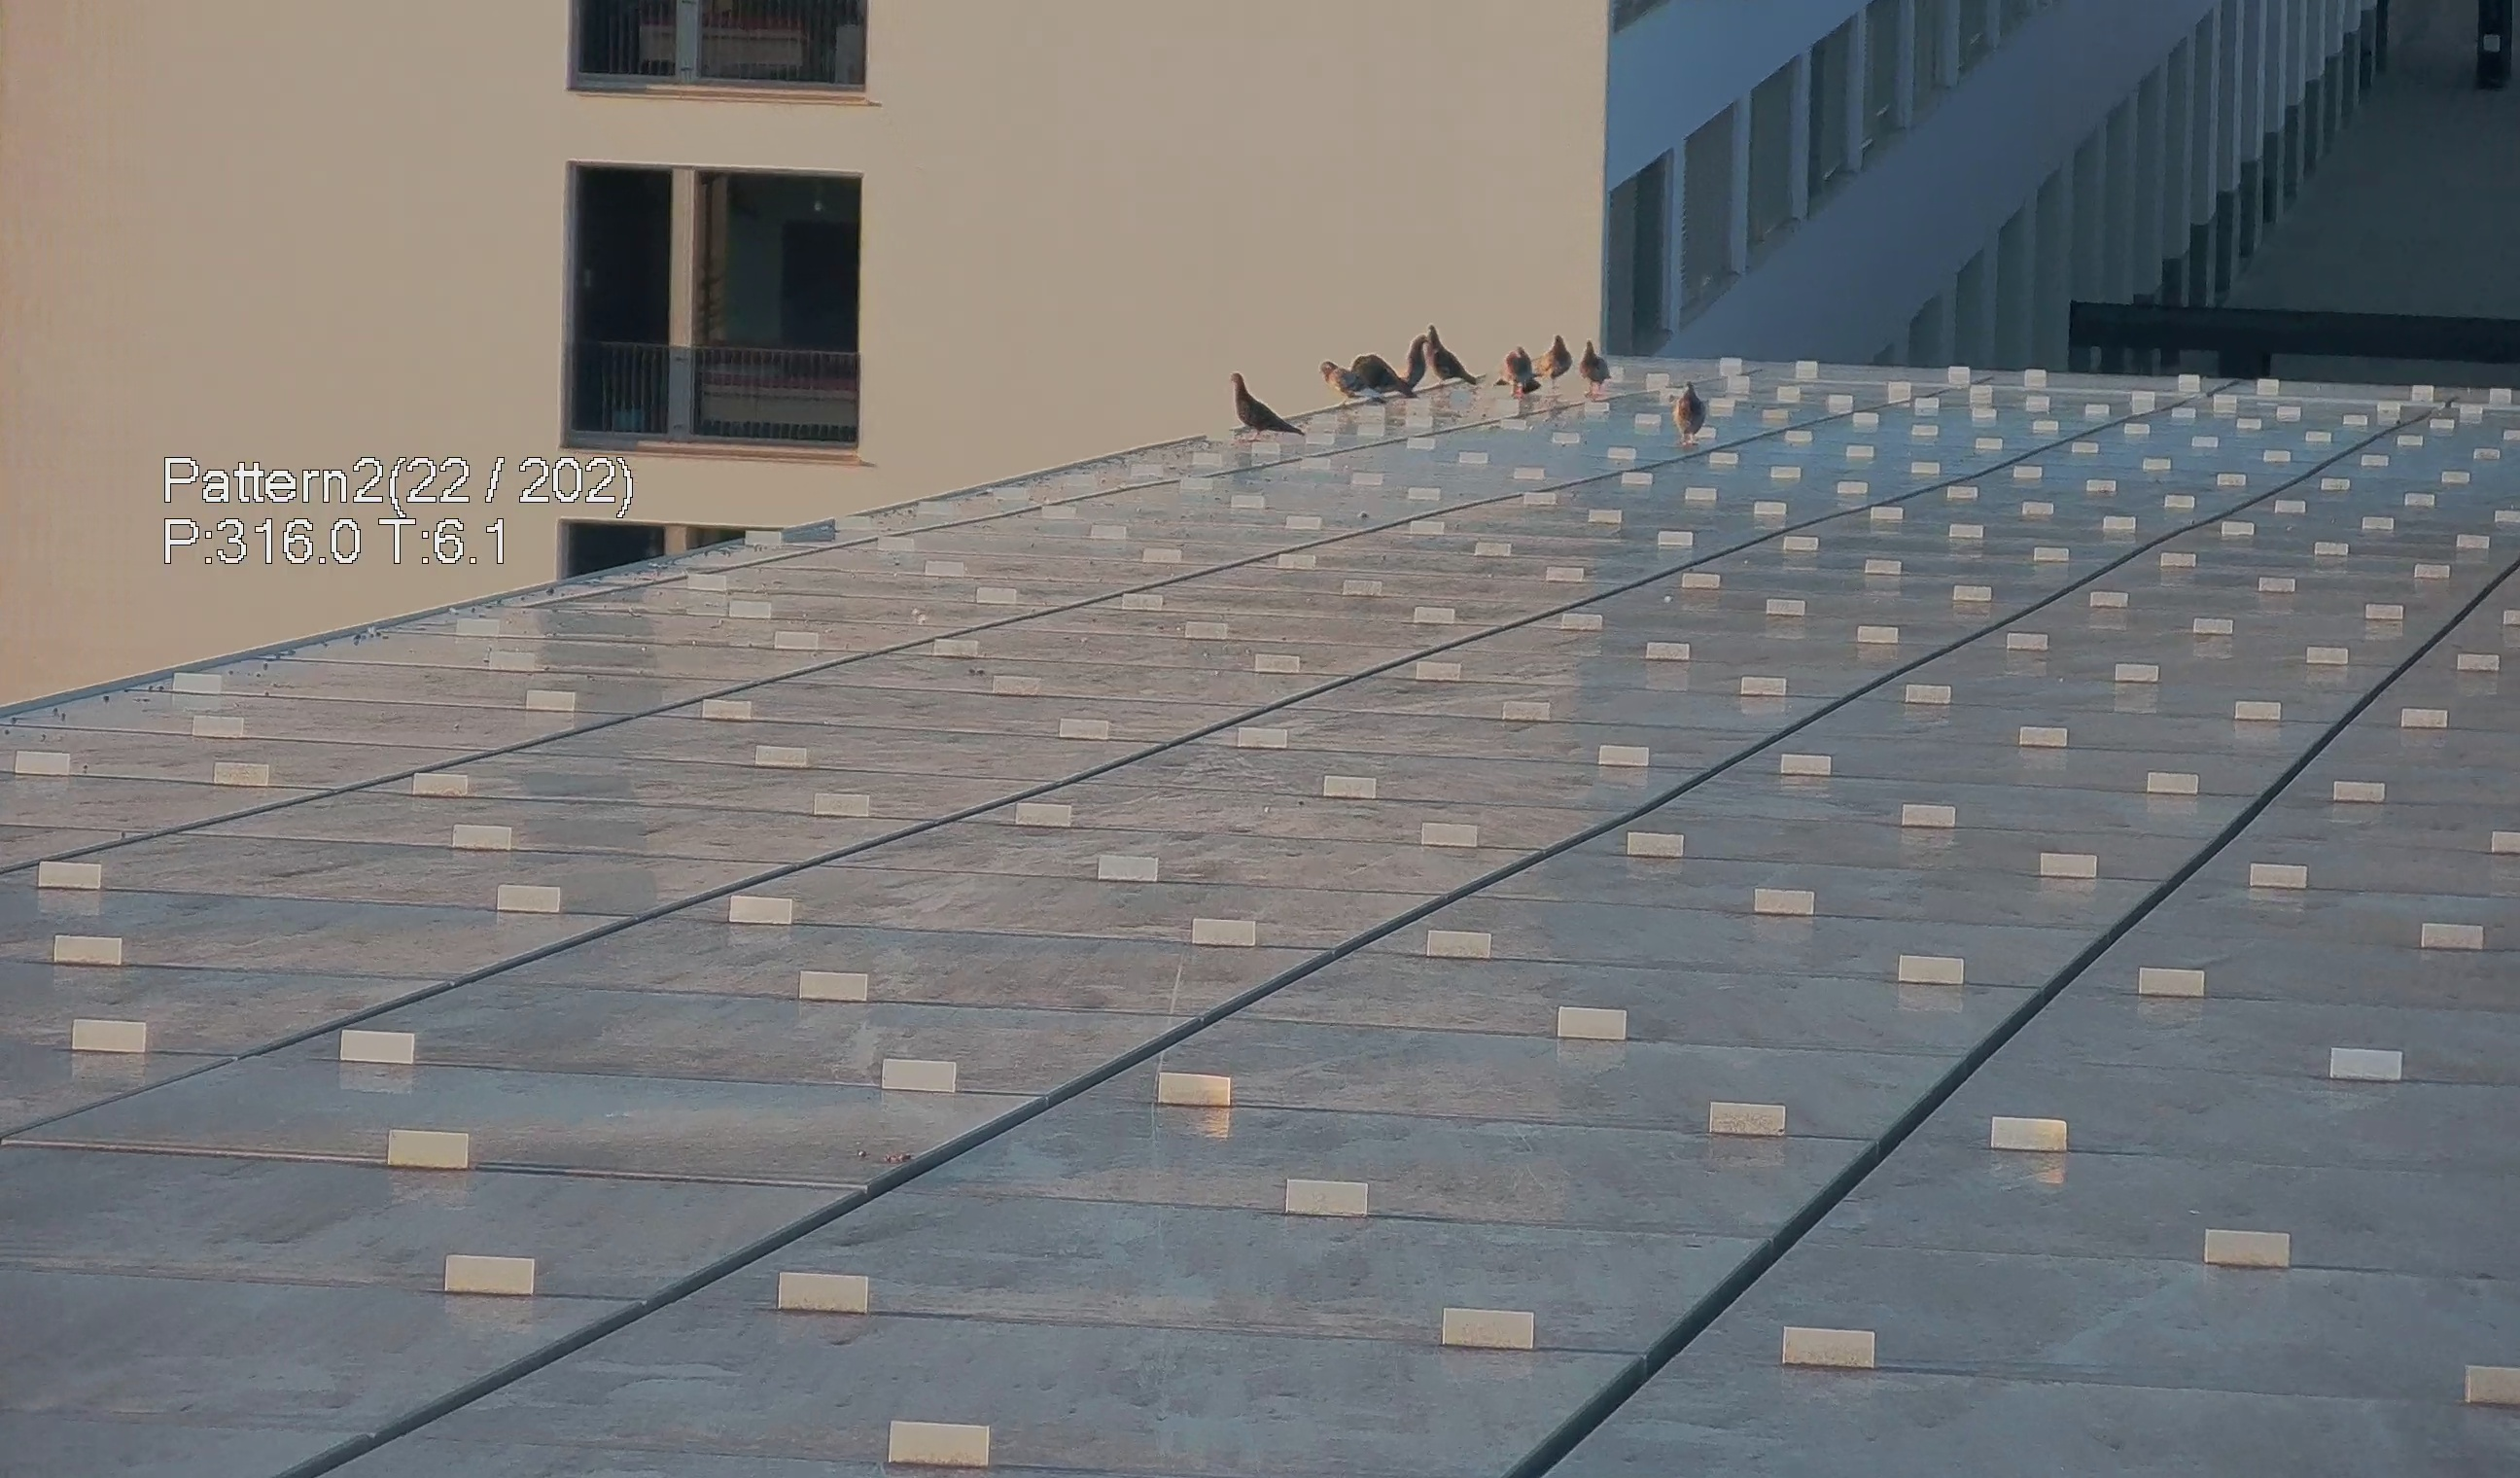Pigeon: (1217, 366, 1308, 442), (1669, 380, 1715, 454), (1319, 359, 1387, 408), (1423, 327, 1479, 385), (1351, 352, 1414, 401), (1395, 329, 1431, 391), (1533, 333, 1572, 387), (1504, 343, 1537, 399), (1577, 340, 1609, 396)
